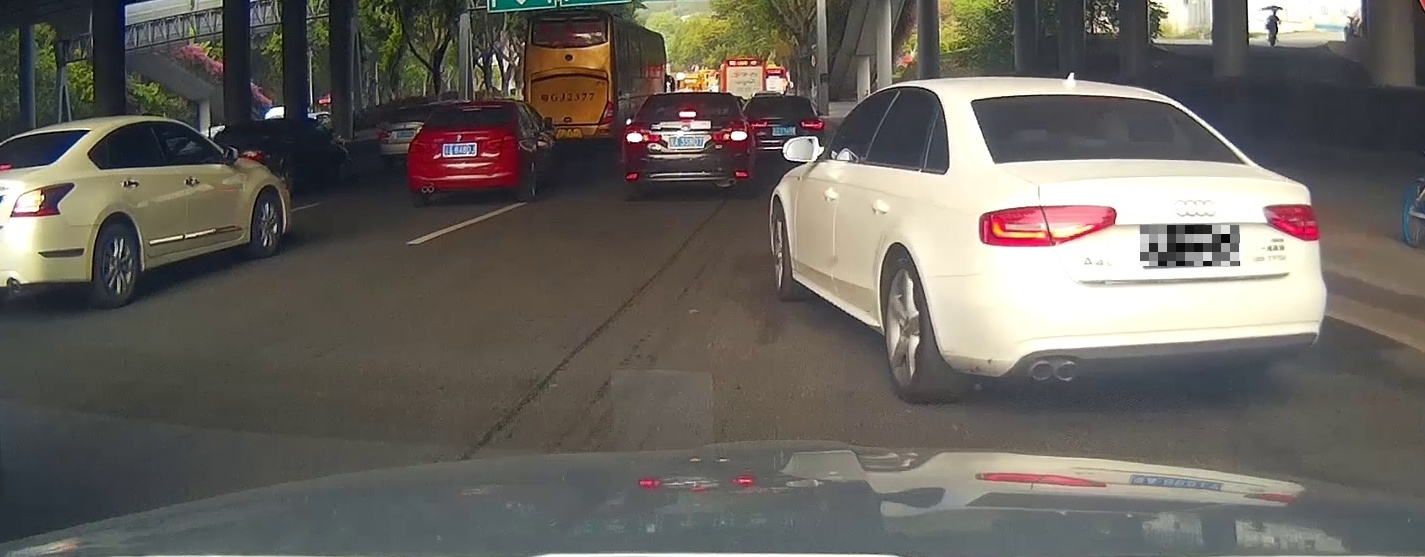L_light: (978, 204, 1116, 247), (625, 130, 662, 143), (408, 143, 433, 154)
R_light: (1263, 204, 1320, 240), (711, 128, 747, 141), (488, 137, 517, 149)
T_light: (1052, 94, 1099, 102), (679, 111, 697, 118), (461, 108, 481, 111)
day-brake: (624, 91, 754, 200)
day-left: (967, 76, 1328, 404)
day-no: (407, 100, 521, 207)
plate_1: (1140, 225, 1240, 266)
